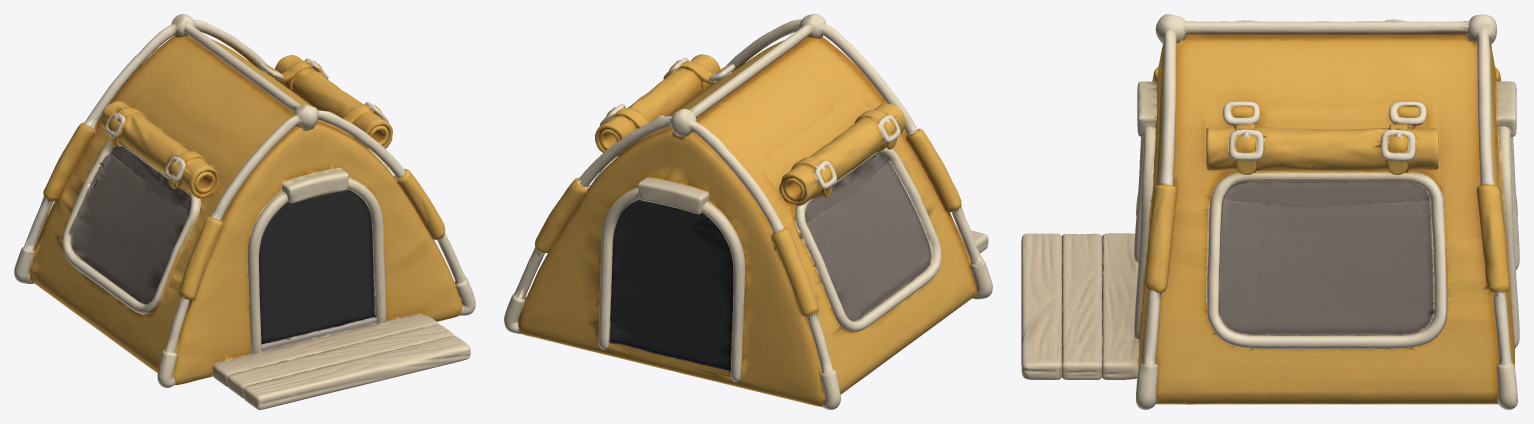
The model's file is CampTentBodyOpen.glb.
3 renders of one model, left to right at view 1: azimuth 30°, elevation 25°; view 2: azimuth 150°, elevation 25°; view 3: azimuth 270°, elevation 25°, orthographic. The views are drawn at different scales.
Parts seen in each view (by area): view 1: tripo_node_d9cc1ad5-9b1b-4f53-b53a-2314c08d8088; view 2: tripo_node_d9cc1ad5-9b1b-4f53-b53a-2314c08d8088; view 3: tripo_node_d9cc1ad5-9b1b-4f53-b53a-2314c08d8088.
Part boxes in pixels (x1,y1,x2,y2): tripo_node_d9cc1ad5-9b1b-4f53-b53a-2314c08d8088: [14, 14, 475, 409]; tripo_node_d9cc1ad5-9b1b-4f53-b53a-2314c08d8088: [504, 14, 992, 409]; tripo_node_d9cc1ad5-9b1b-4f53-b53a-2314c08d8088: [1021, 14, 1519, 409].
Bounding box in the file's own units: 0.9077 × 0.659 × 0.9799.
Materials: 1 (1 with a texture image).
